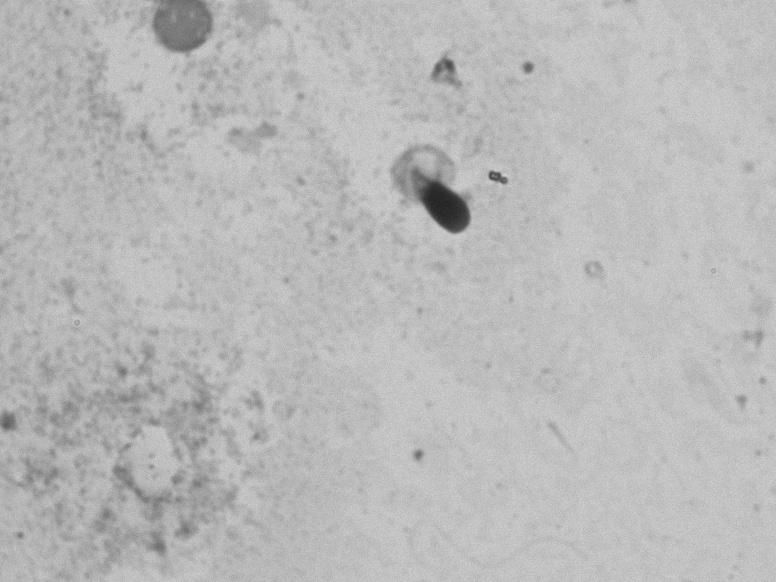Abnormal: (368, 110, 504, 286)
